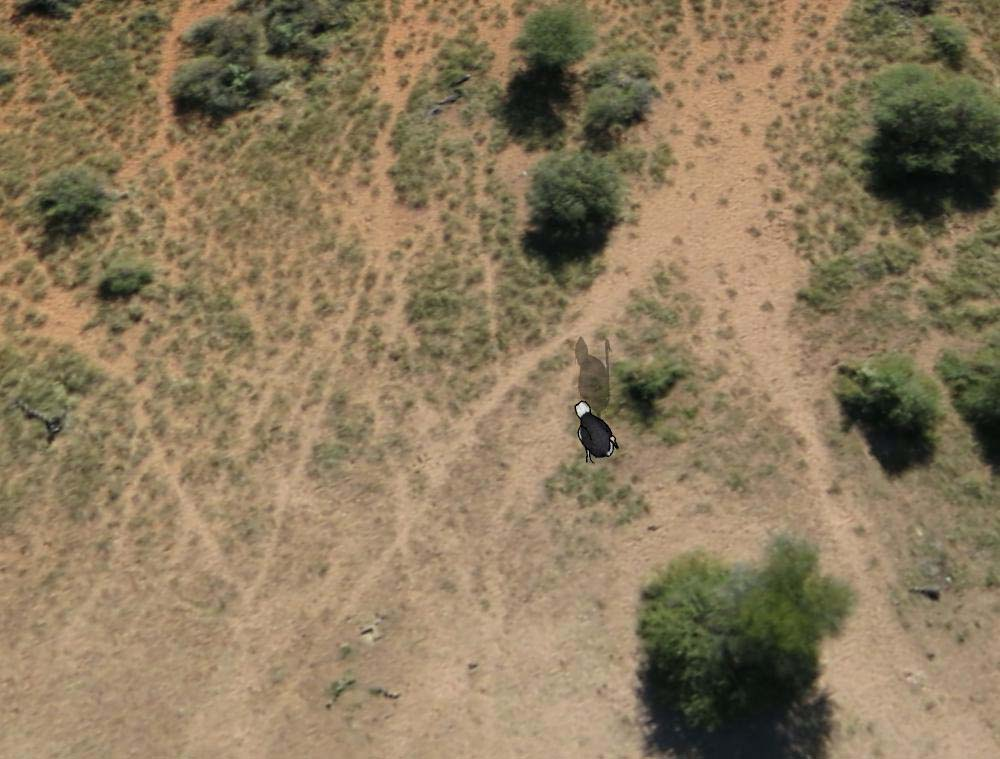ostrich: (574, 399, 622, 468)
